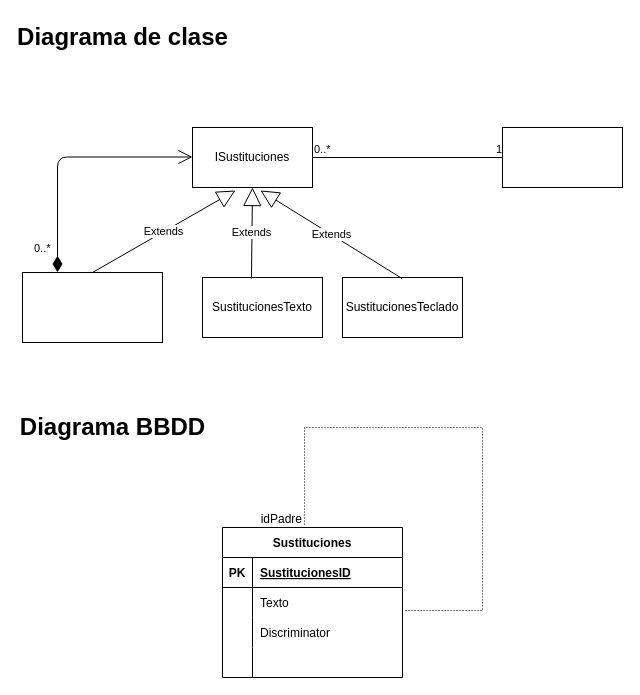
Image size: 640x695. Some labels were removed from this diagram. Each missing label, with the centre of its shape:
SustitucionesCompuestas: the point at 92,307
Usuario: the point at 562,157
